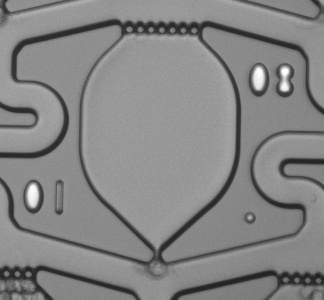AptNum: (243, 57, 299, 107)
Marker: (240, 207, 263, 229)
StNum: (21, 173, 72, 221)
Trap: (133, 252, 182, 295)
